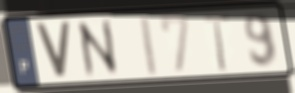7: (157, 12, 196, 77)
9: (242, 11, 279, 70)
I: (140, 13, 162, 80)
N: (74, 16, 123, 82)
T: (200, 11, 232, 74)
V: (33, 21, 73, 81)
